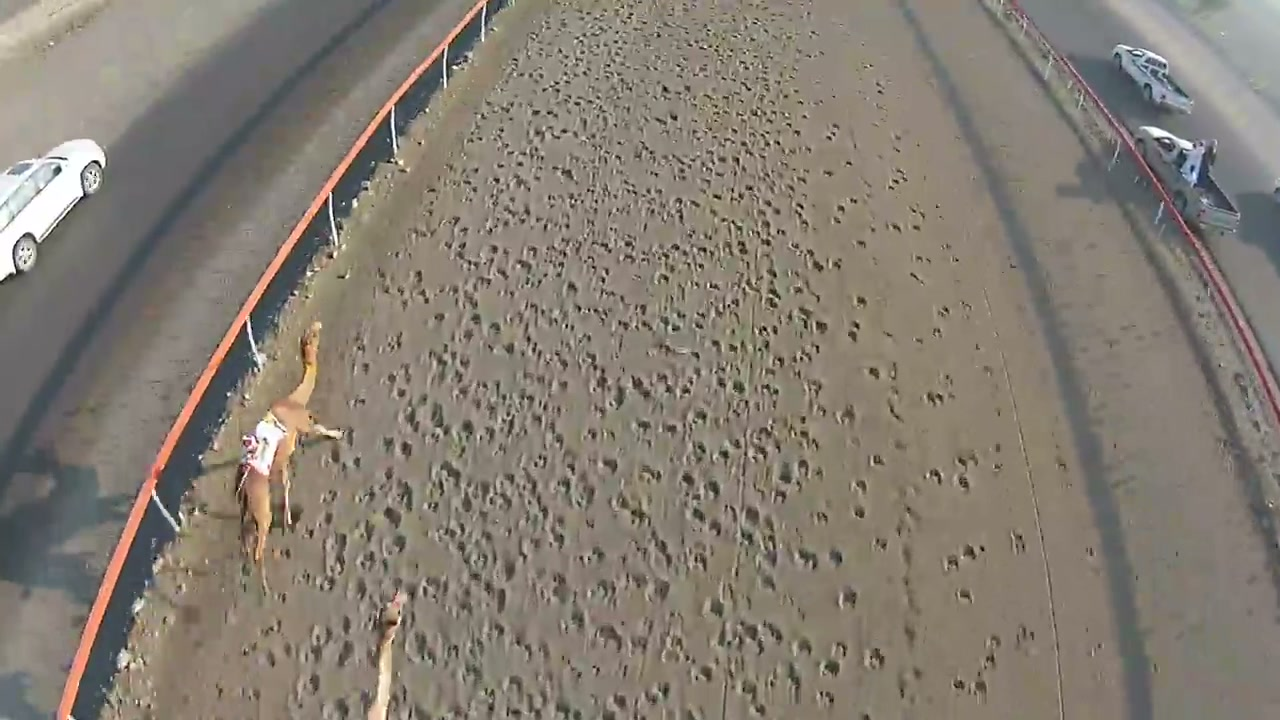animal_footprint: (235, 49, 944, 719)
